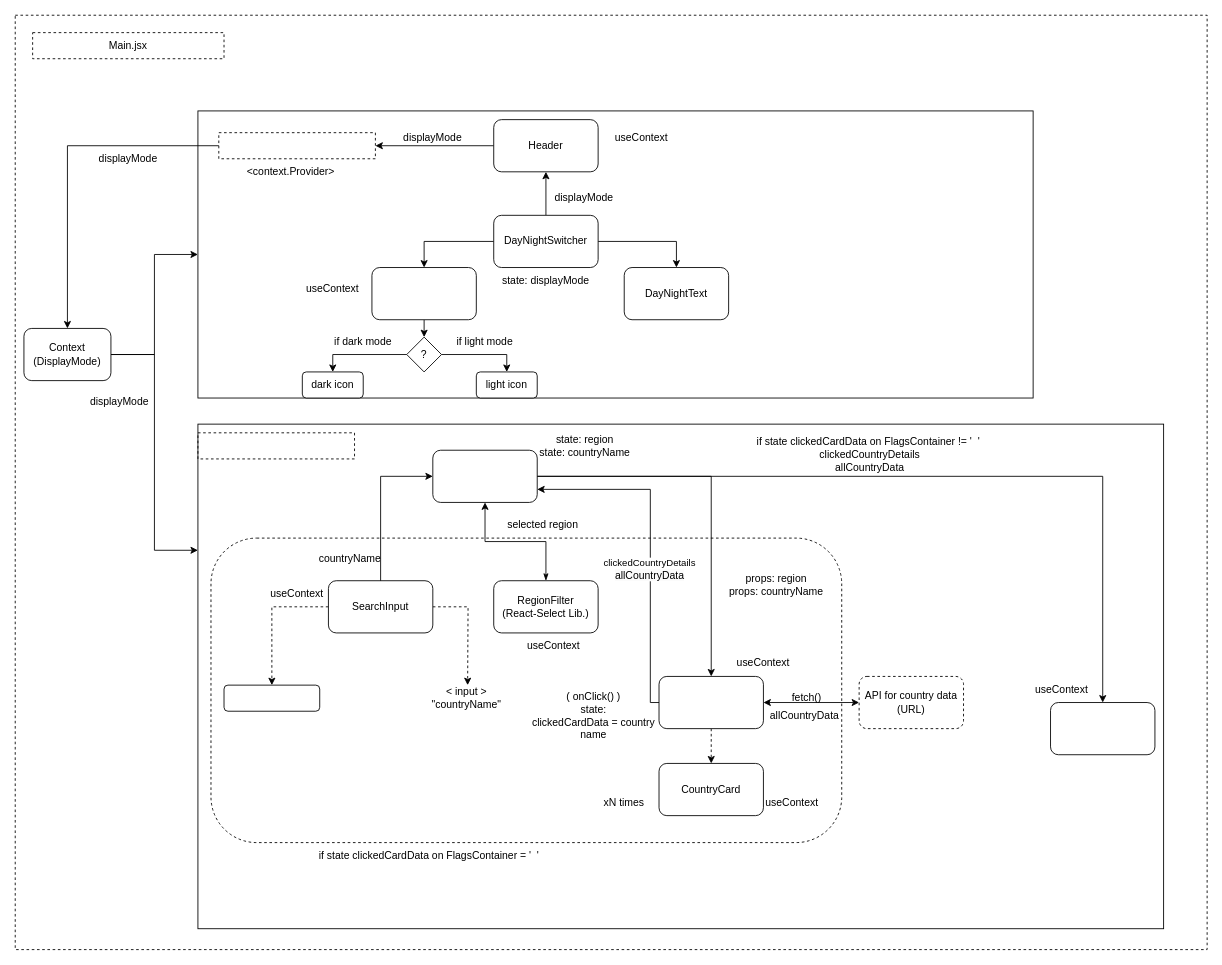
Some shapes in this 1222 by 965 pixel diagram are drawn without their labels. Here are the shapes that lost their labels. From the top down, the box of each, then its label:
(218, 132, 375, 159): Route: <Root>
(371, 267, 476, 320): DayNightButton
(197, 432, 355, 459): Route: <Home> <Outlet>
(432, 449, 537, 502): BodyContainer
(223, 684, 320, 711): SearchIcon (MUI icon)
(658, 676, 763, 729): FlagsContainer
(1050, 702, 1155, 755): DetailedCard
